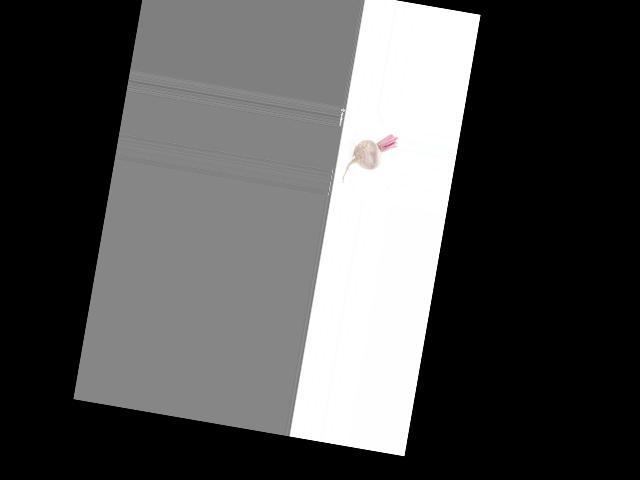beet: (341, 127, 398, 191)
